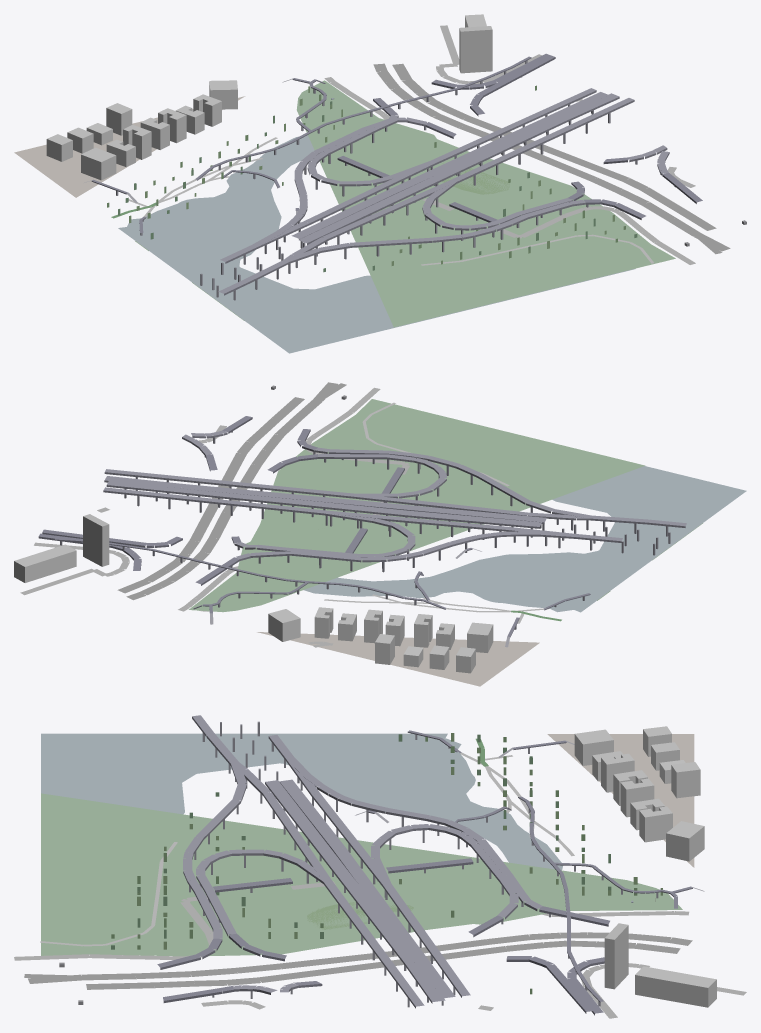
The picture shows the model from 3 angles, top to bottom: view 1: azimuth 30°, elevation 25°; view 2: azimuth 150°, elevation 25°; view 3: azimuth 270°, elevation 25°; orthographic projection. The views are drawn at different scales.
Bounding box in the file's own units: 532 × 44.38 × 561.
